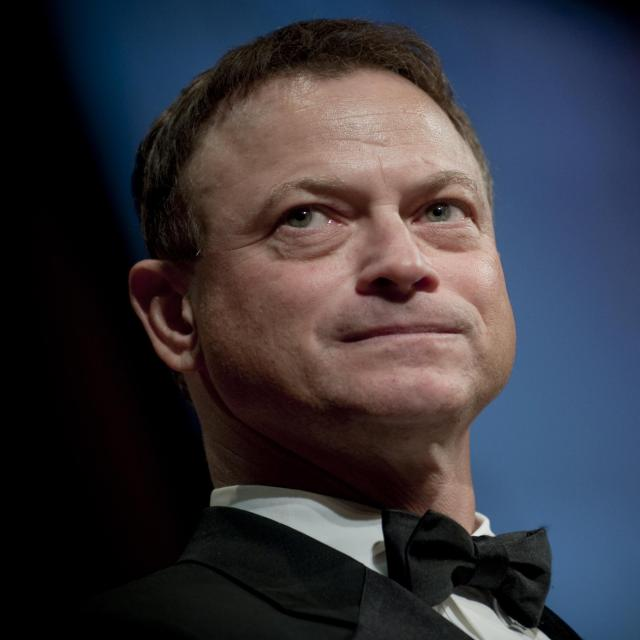no-earmuff: (99, 236, 231, 380)
